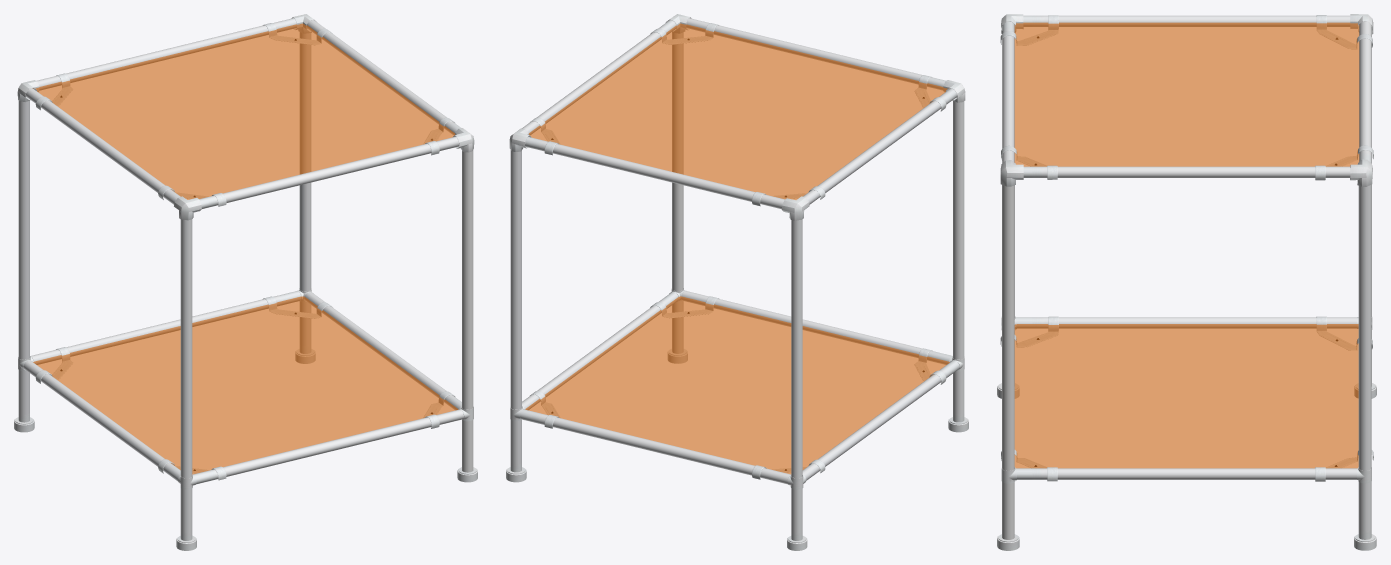
The model's file is shelf.glb.
3 renders of one model, left to right at view 1: azimuth 30°, elevation 25°; view 2: azimuth 150°, elevation 25°; view 3: azimuth 270°, elevation 25°, orthographic. The views are drawn at different scales.
Visible parts, largest first — view 1: panel, panel2, Cylinder.004, Cylinder.007, Cylinder, Cylinder.006, Cylinder.001, Cylinder.009, Cylinder.012, Cylinder.008, Cylinder.005, Cylinder.002 (+2 smaller); view 2: panel, panel2, Cylinder.006, Cylinder.007, Cylinder.004, Cylinder, Cylinder.008, Cylinder.012, Cylinder.009, Cylinder.001, Cylinder.005, Cylinder.002 (+2 smaller); view 3: panel, panel2, Cylinder.006, Cylinder, Cylinder.002, Cylinder.005, Cylinder.010, Cylinder.011, Cylinder.009, Cylinder.012, Suppoter.006, Suppoter.008 (+4 smaller).
Part boxes in pixels (x1,y1,x2,y2): panel: [35, 23, 455, 199]; panel2: [33, 296, 458, 474]; Cylinder.004: [180, 219, 192, 540]; Cylinder.007: [18, 100, 29, 422]; Cylinder: [462, 150, 473, 472]; Cylinder.006: [299, 32, 311, 353]; Cylinder.001: [193, 409, 463, 484]; Cylinder.009: [199, 136, 459, 208]; Cylinder.012: [36, 18, 296, 90]; Cylinder.008: [30, 291, 301, 364]; Cylinder.005: [23, 360, 180, 480]; Cylinder.002: [304, 292, 461, 409]; panel: [529, 23, 947, 199]; panel2: [525, 296, 949, 474]; Cylinder.006: [510, 150, 521, 472]; Cylinder.007: [791, 219, 802, 540]; Cylinder.004: [953, 101, 964, 422]; Cylinder: [672, 32, 683, 353]; Cylinder.008: [520, 409, 790, 484]; Cylinder.012: [525, 136, 784, 209]; Cylinder.009: [686, 18, 950, 90]; Cylinder.001: [681, 290, 951, 364]; Cylinder.005: [802, 360, 959, 480]; Cylinder.002: [522, 292, 678, 409]; panel: [1014, 22, 1359, 166]; panel2: [1014, 324, 1358, 468]; Cylinder.006: [1358, 184, 1371, 539]; Cylinder: [1002, 185, 1014, 539]; Cylinder.002: [1017, 468, 1356, 479]; Cylinder.005: [1017, 317, 1357, 328]; Cylinder.010: [1023, 166, 1350, 177]; Cylinder.011: [1023, 15, 1350, 26]; Cylinder.009: [1002, 21, 1014, 163]; Cylinder.012: [1359, 21, 1371, 162]; Suppoter.006: [1000, 15, 1058, 45]; Suppoter.008: [1316, 15, 1372, 48].
Size of the model in its own units: 2.11 by 2.33 by 2.1.
Materials: 7 (5 with a texture image).
